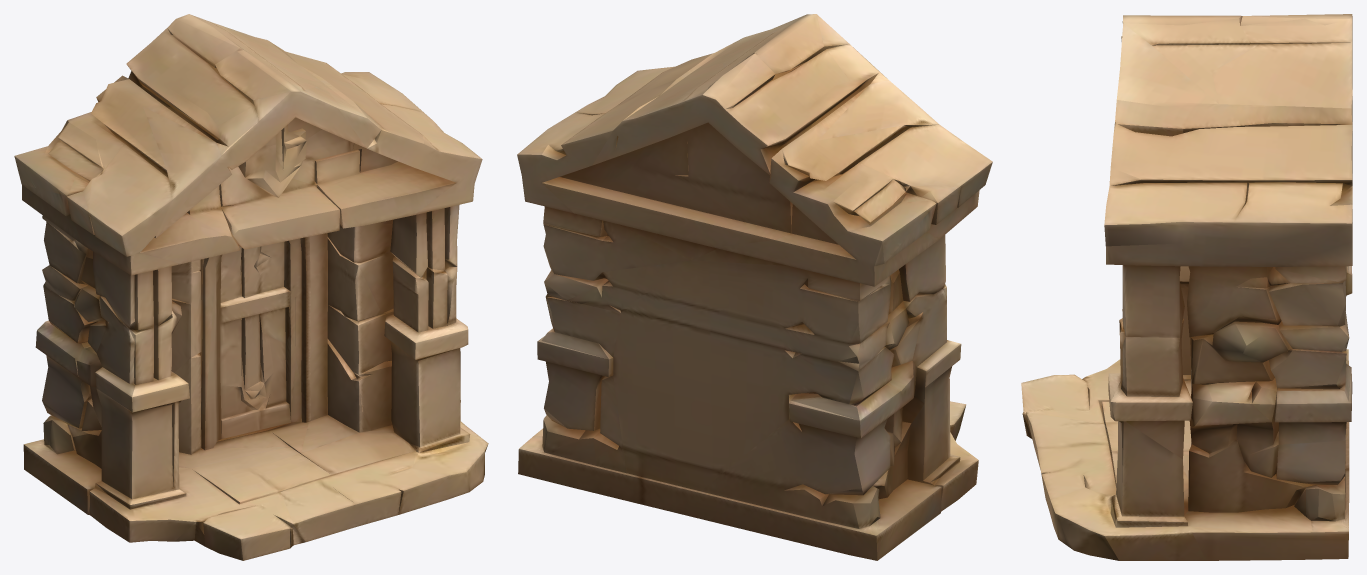
File: m2TempleWall.glb
The picture shows the model from 3 angles, left to right: view 1: azimuth 30°, elevation 25°; view 2: azimuth 150°, elevation 25°; view 3: azimuth 270°, elevation 25°; orthographic projection. The views are drawn at different scales.
Visible parts, largest first — view 1: model; view 2: model; view 3: model.
Boxes of the visible parts, x1,y1,x2,y2 form: model: (14, 14, 488, 560); model: (517, 14, 992, 560); model: (1021, 14, 1352, 560).
Bounding box in the file's own units: 1.72 × 1.9 × 1.27.
Materials: 1 (1 with a texture image).
